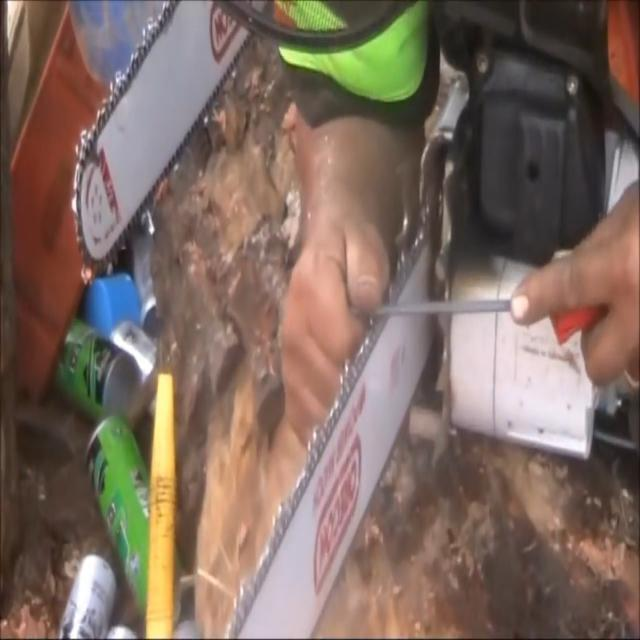Chainsaw: (221, 2, 640, 640), (56, 0, 271, 325)
